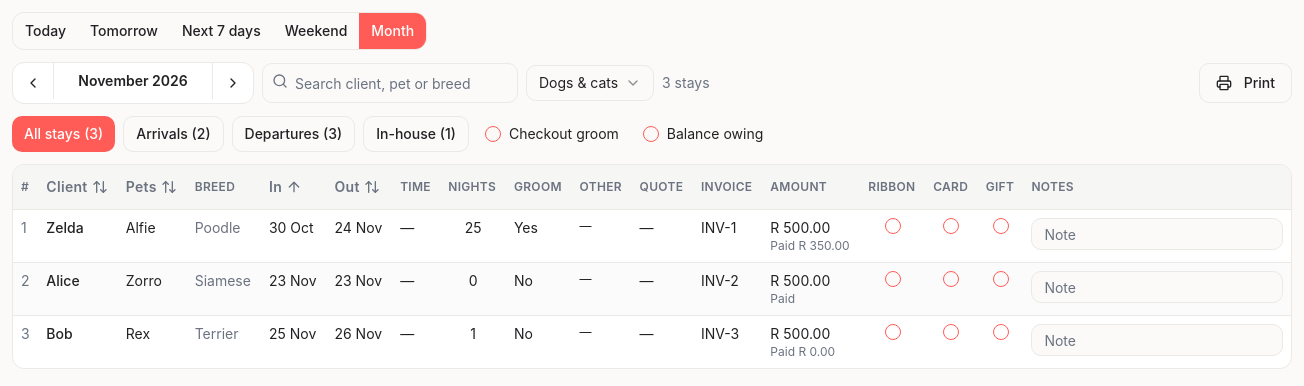
species selection shows cats and clear filters restores all stays
Expected: the link "Zelda" is shown, [46,219,84,236]
Press Enter in the dropdown named "Pet species", box [526,65,654,101]
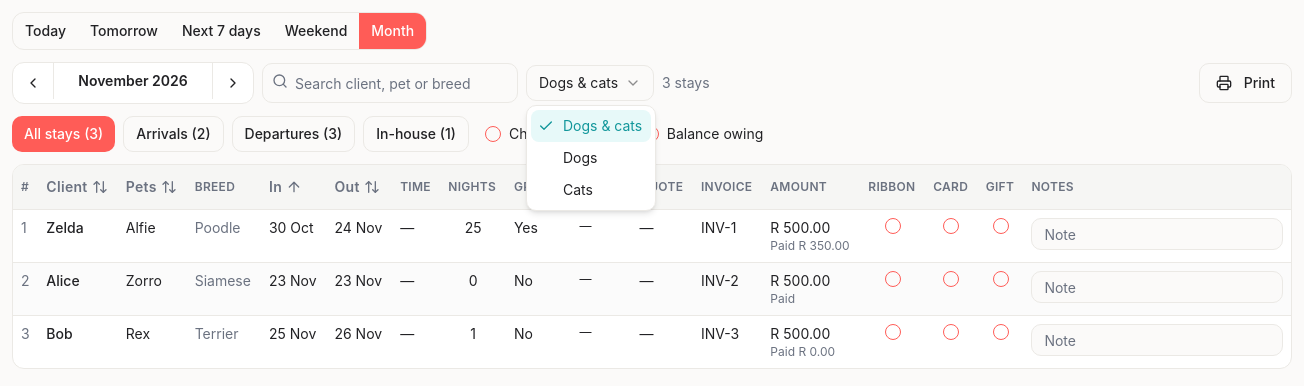
Click the option "Cats": click(578, 190) [563,181,593,198]
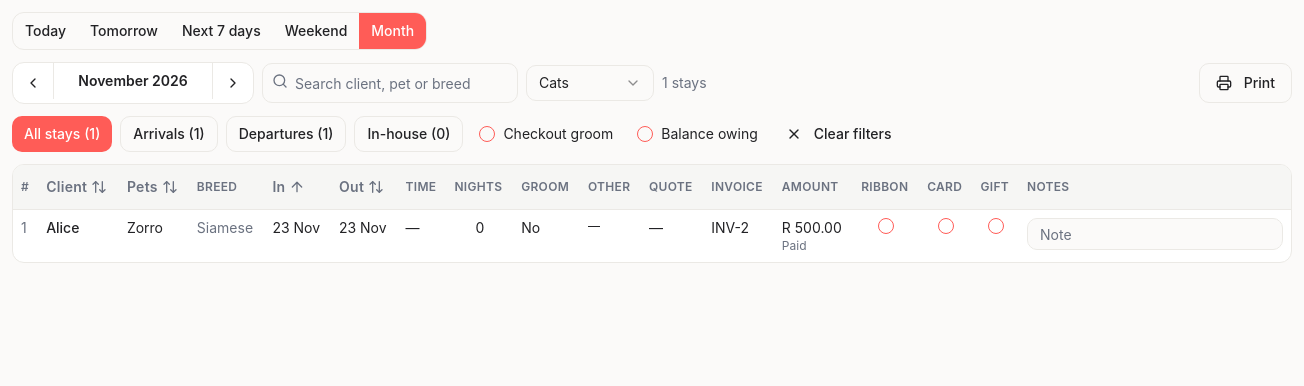
Expected: the link "Alice" is shown, [46,219,79,236]
Expected: the link "Zelda" is gone
Expected: the link "Bob" is gone
Click the button "Clear filters": click(839, 134) [774,116,904,152]
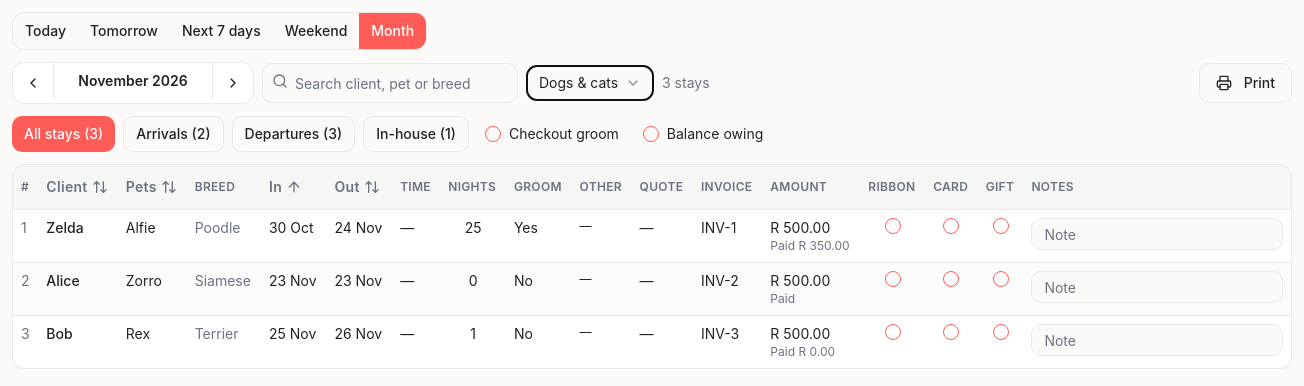
Expected: the link "Zelda" is shown, [46,219,84,236]
Expected: the link "Bob" is shown, [46,325,73,342]
